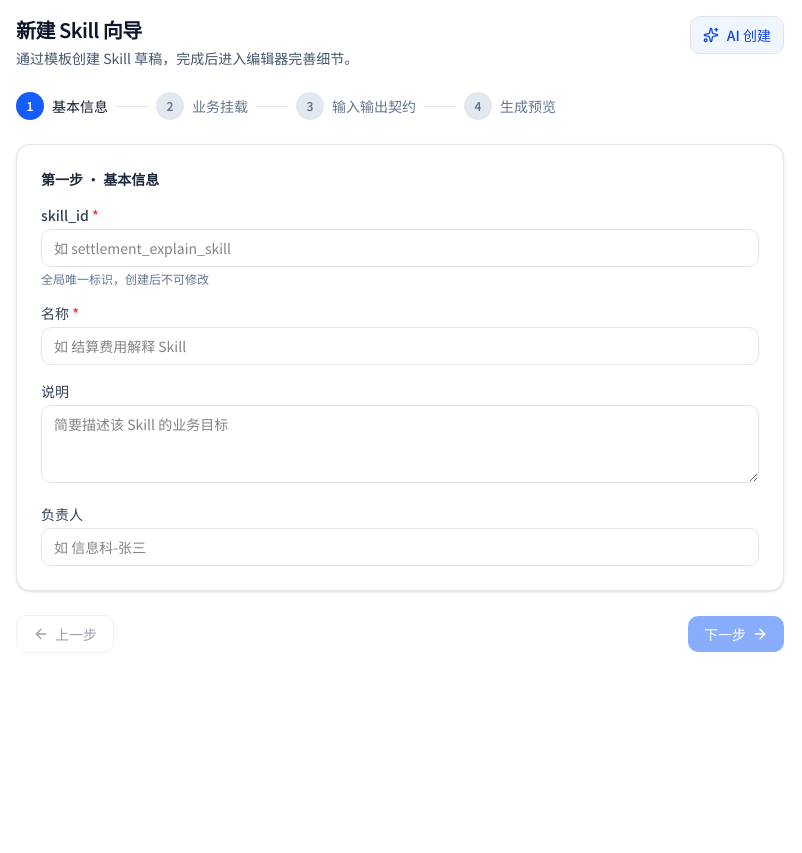
Test: NewSkillWizardPage › navigates through all 4 steps
Type "test_skill" into the field with placeholder "如 settlement_explain_skill" at (400, 248), box [41,229,759,267]
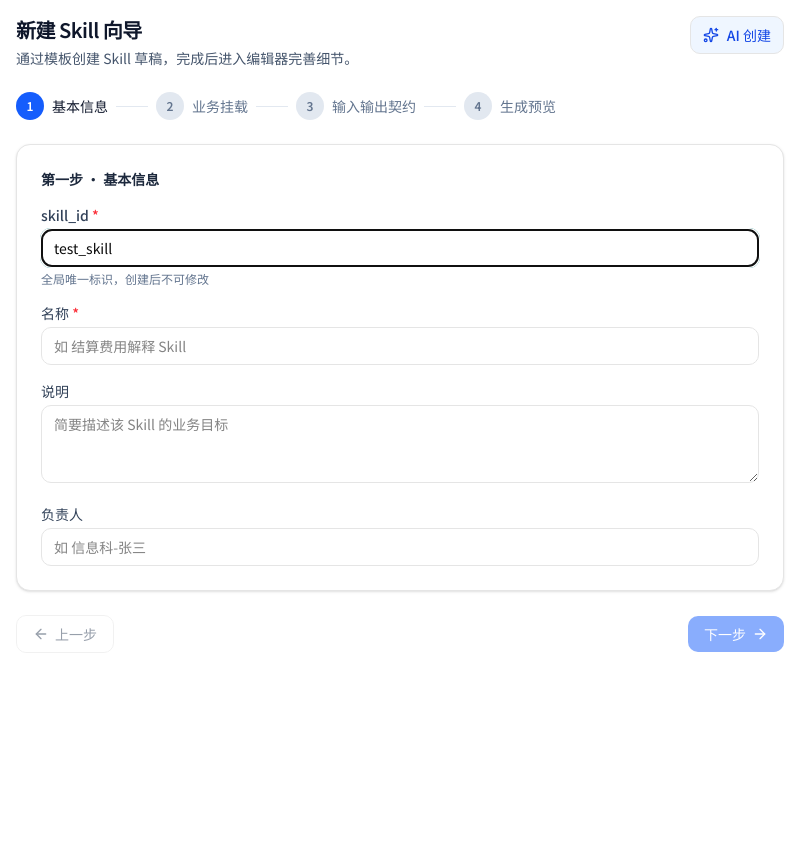
Type "Test" into the field with placeholder "如 结算费用解释 Skill" at (400, 346), box [41,327,759,365]
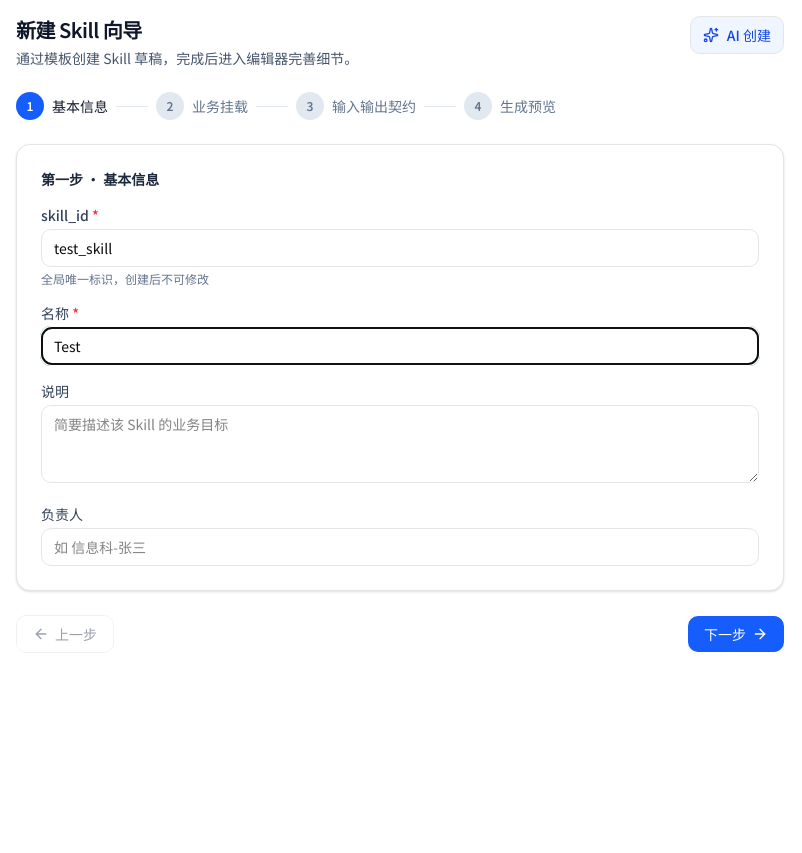
Click the button "下一步" at (736, 634), box [688,616,784,652]
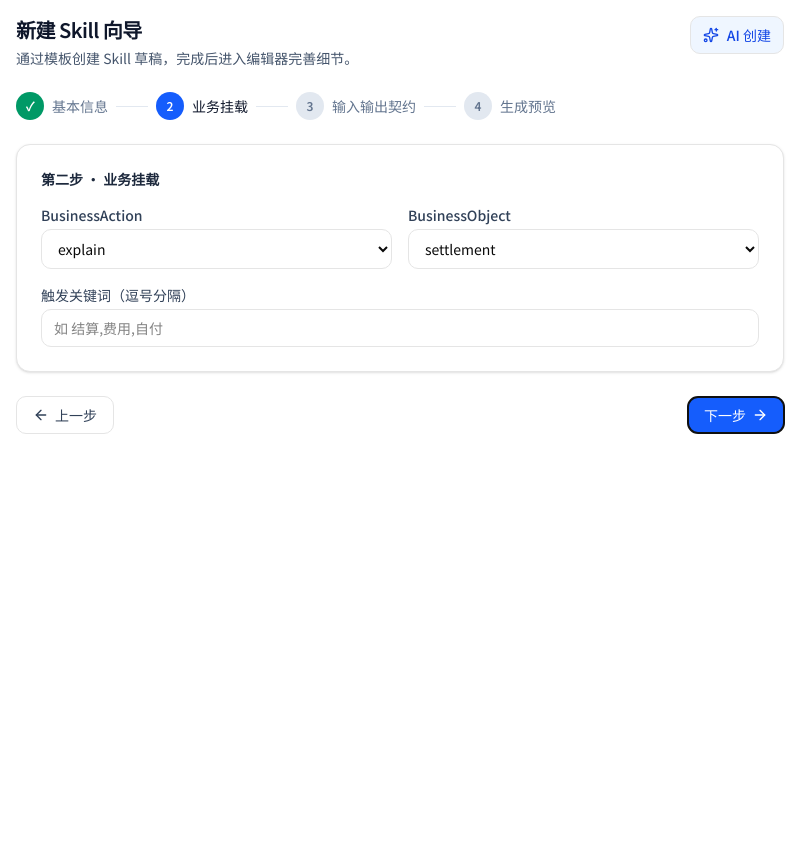
Result: the heading "第二步 · 业务挂载" is shown at [41,169,159,189]
Click the button "下一步" at (736, 415), box [688,397,784,433]
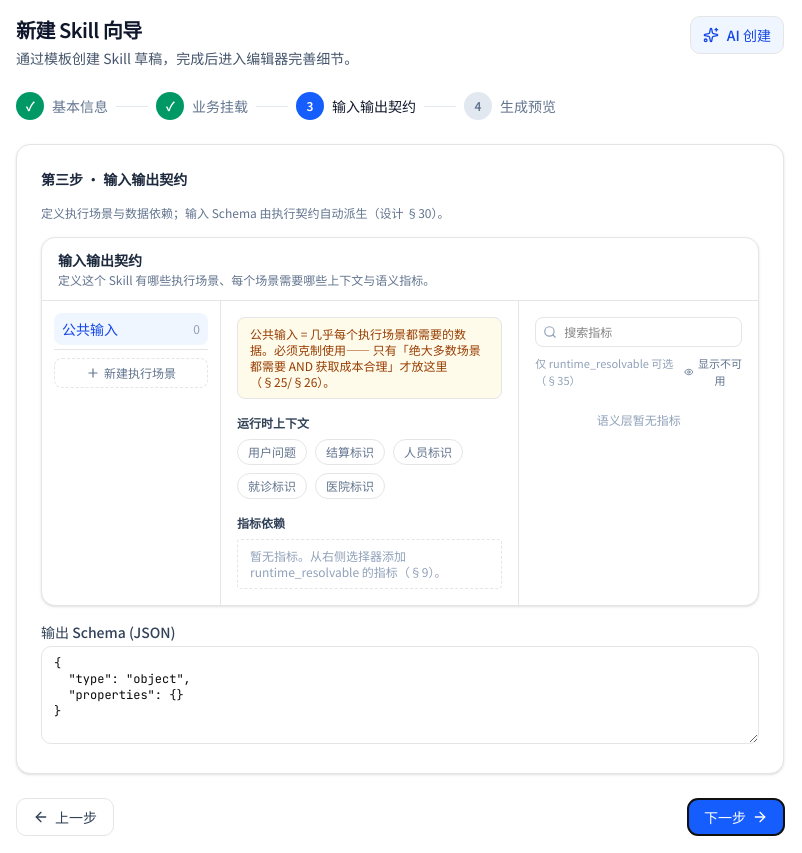
Result: the heading "第三步 · 输入输出契约" is shown at [41,169,187,189]
Click the button "下一步" at (736, 817), box [688,799,784,835]
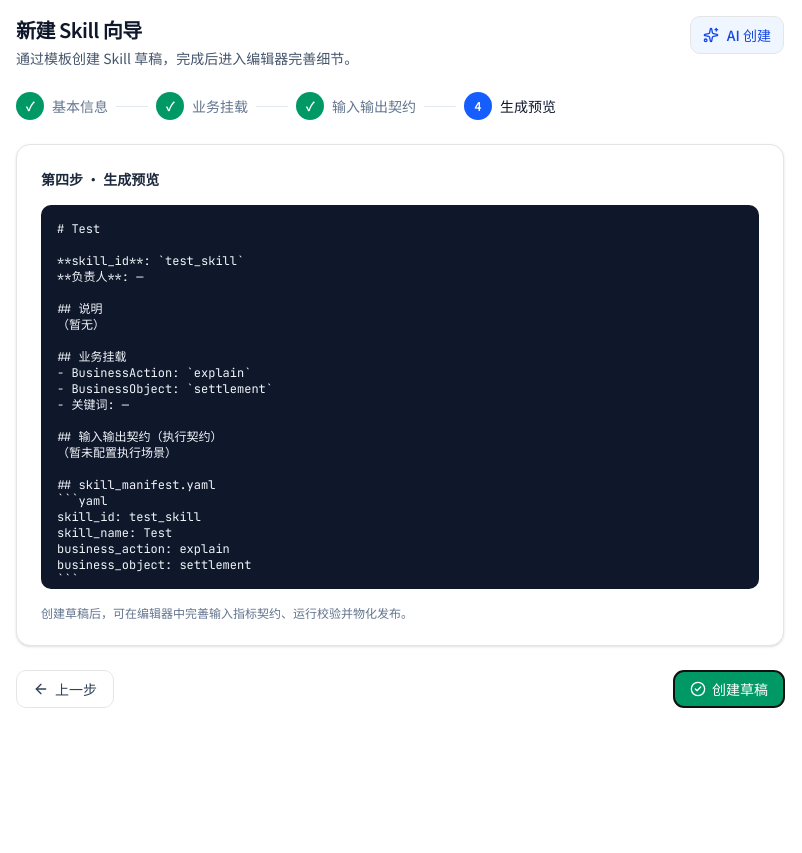
Result: the heading "第四步 · 生成预览" is shown at [41,169,159,189]
Result: the button "创建草稿" is shown at [674,671,784,707]
